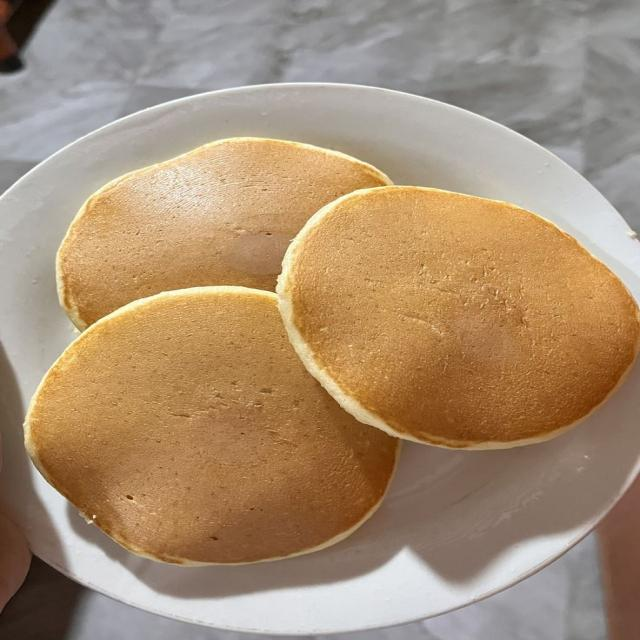pancake: (26, 287, 399, 564), (278, 187, 638, 448), (57, 138, 390, 330)
